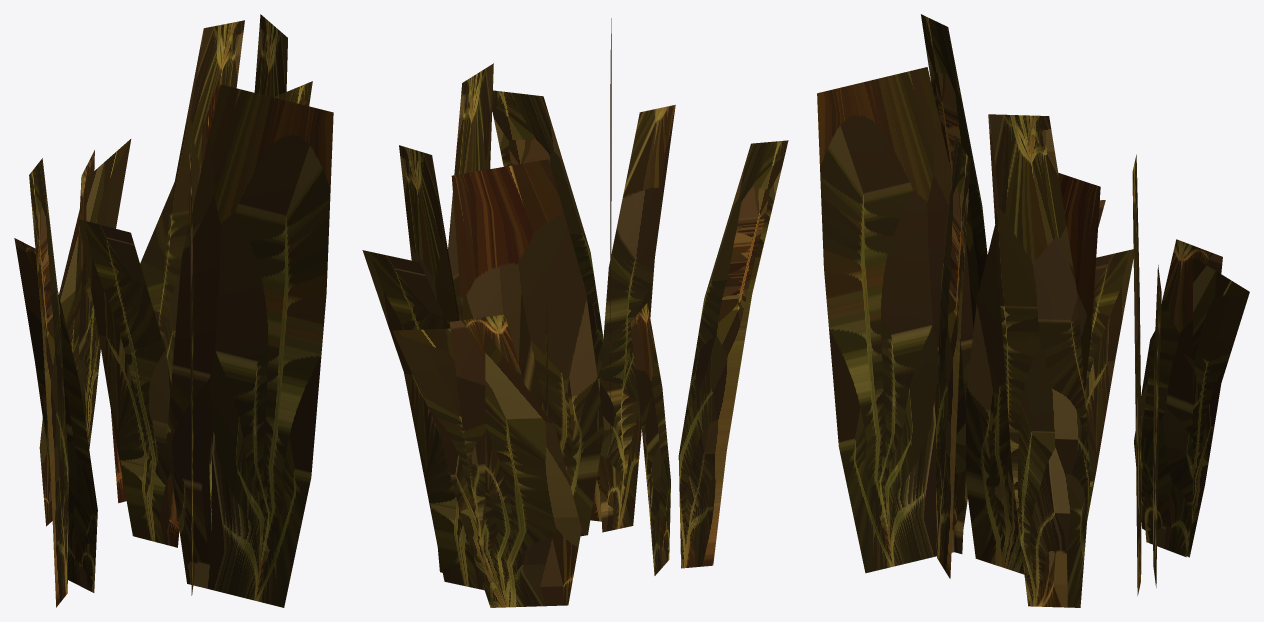
Rendered from meadow_grass_001_c_LOD2.gltf.
The picture shows the model from 3 angles, left to right: view 1: azimuth 30°, elevation 25°; view 2: azimuth 150°, elevation 25°; view 3: azimuth 270°, elevation 25°; orthographic projection. The views are drawn at different scales.
Parts seen in each view (by area): view 1: meadow_grass_001_c_LOD2; view 2: meadow_grass_001_c_LOD2; view 3: meadow_grass_001_c_LOD2.
Part boxes in pixels (box(x1,y1,x2,y2)): meadow_grass_001_c_LOD2: box(14, 14, 333, 607); meadow_grass_001_c_LOD2: box(362, 18, 788, 607); meadow_grass_001_c_LOD2: box(817, 14, 1249, 607).
Bounding box in the file's own units: 0.841 × 1.16 × 0.9281.
Materials: 1 (1 with a texture image).
